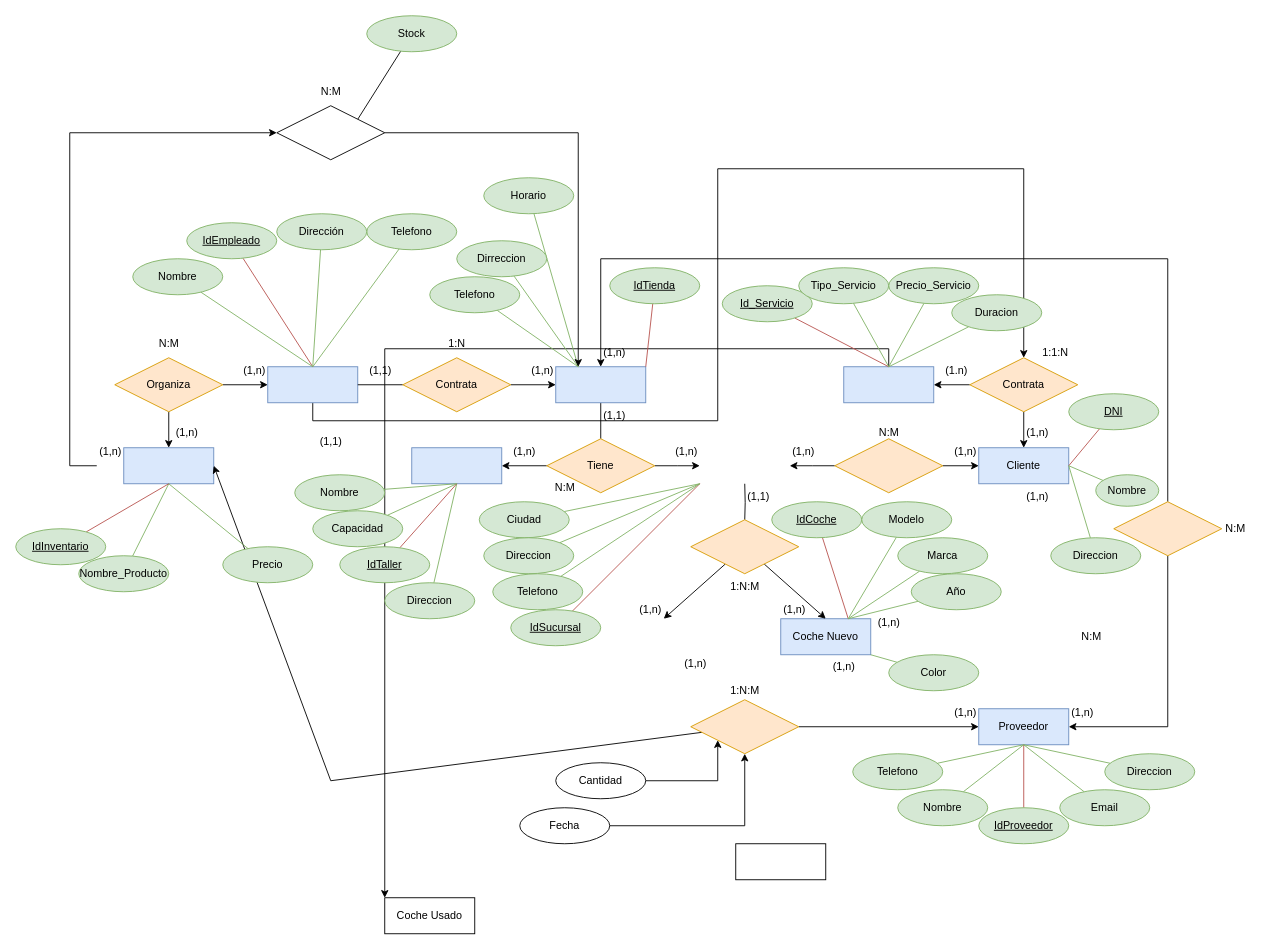
The diagram is 1274 pixels wide and 950 high, and some of its shapes have lost their labels. The shapes that lost their labels are listed below. From the top down, each one's centre as x and y in pixels, then its label:
pixel 330 132: Se guardan
pixel 312 384: Empleado
pixel 600 384: Tienda
pixel 888 384: Servicio
pixel 168 465: Productos
pixel 456 465: Taller
pixel 888 465: Compra en
pixel 744 546: Vende
pixel 1167 528: Trabaja con
pixel 744 726: Entrega
pixel 780 861: Coche Alquiler
